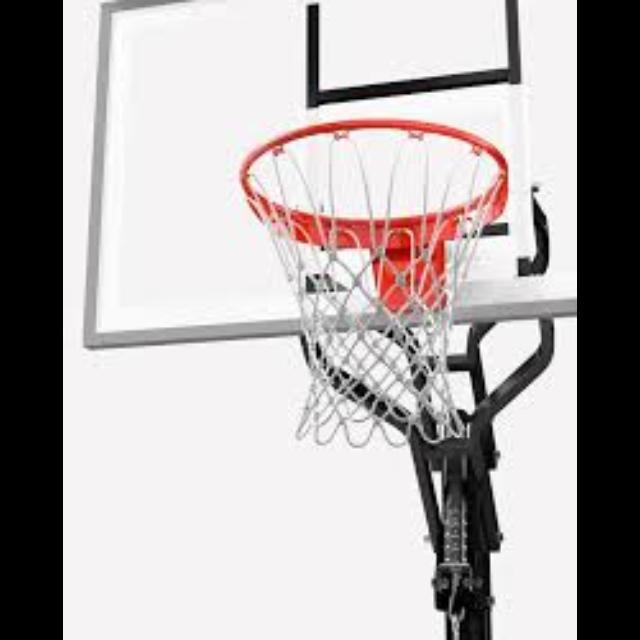rim: (239, 116, 509, 446)
